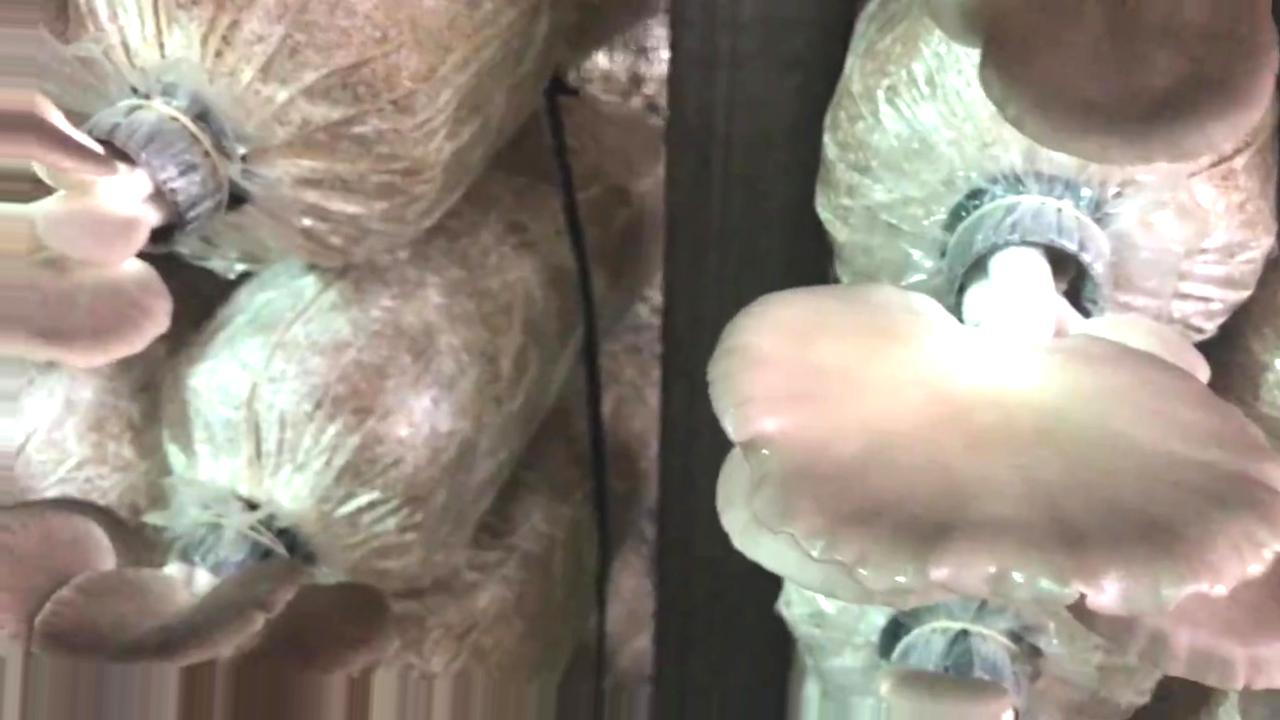nam: (706, 181, 1280, 609), (23, 495, 400, 720), (1, 78, 248, 370), (920, 2, 1280, 165)
